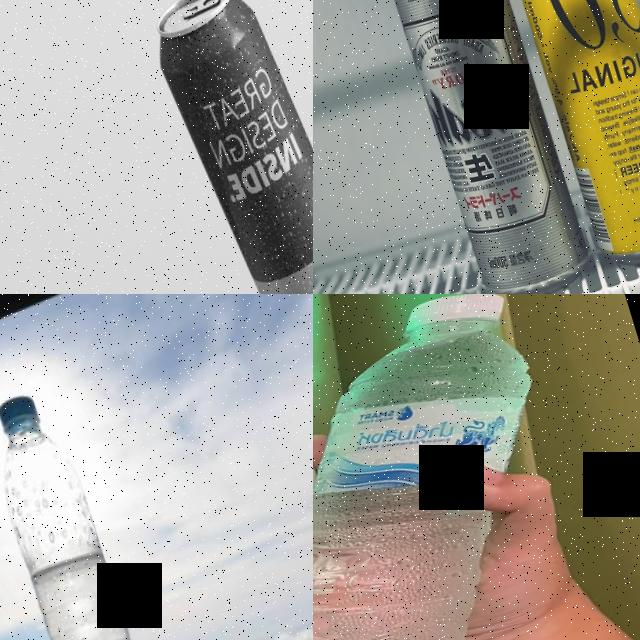bottle: (313, 294, 634, 640), (0, 388, 191, 640)
can: (377, 0, 595, 294), (138, 0, 313, 294), (492, 0, 640, 276)
